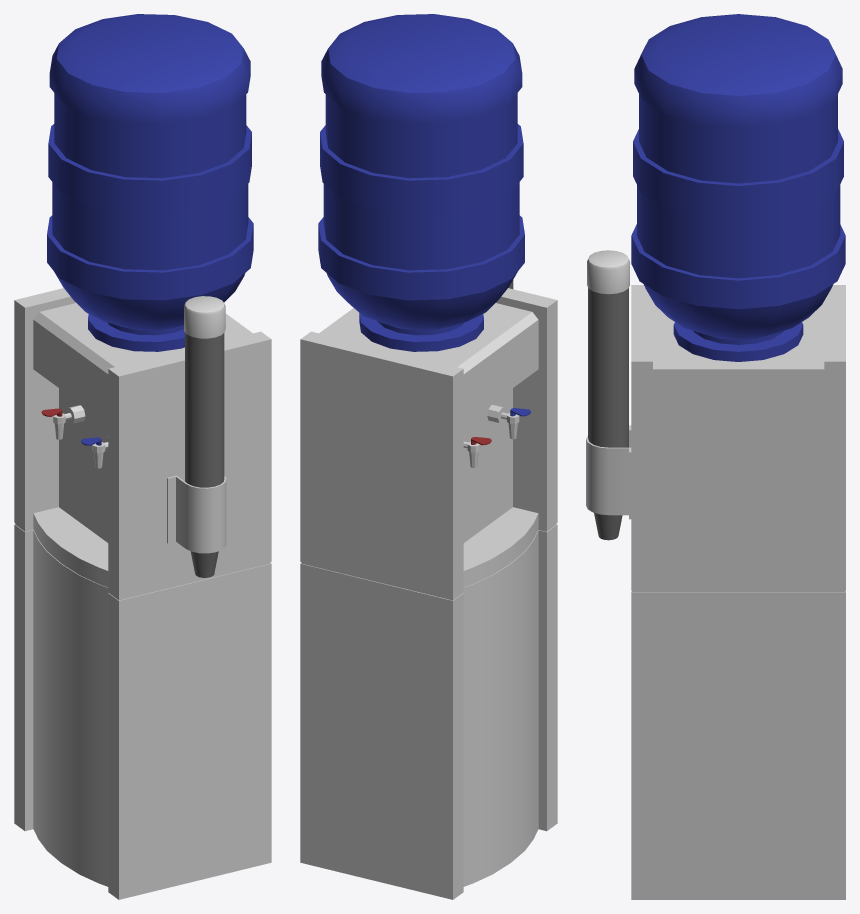
Rendered from Water_Dispenser.fbx.
3 renders of one model, left to right at view 1: azimuth 30°, elevation 25°; view 2: azimuth 150°, elevation 25°; view 3: azimuth 270°, elevation 25°, orthographic. The views are drawn at different scales.
Parts seen in each view (by area): view 1: SM_Water_refil; view 2: SM_Water_refil; view 3: SM_Water_refil.
Boxes of the visible parts, x1,y1,x2,y2 form: SM_Water_refil: (14,14,271,899); SM_Water_refil: (300,14,557,899); SM_Water_refil: (586,14,845,899).
Bounding box in the file's own units: 42.22 × 177 × 51.18.
